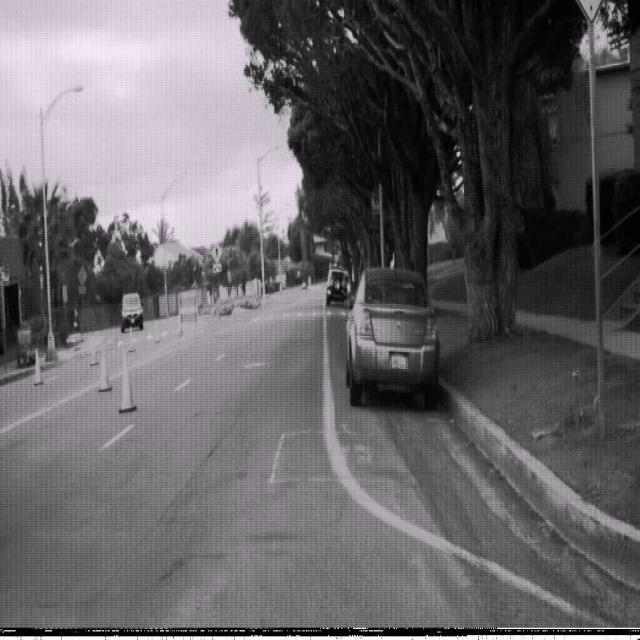pedestrianCrossing: (210, 240, 222, 264)
